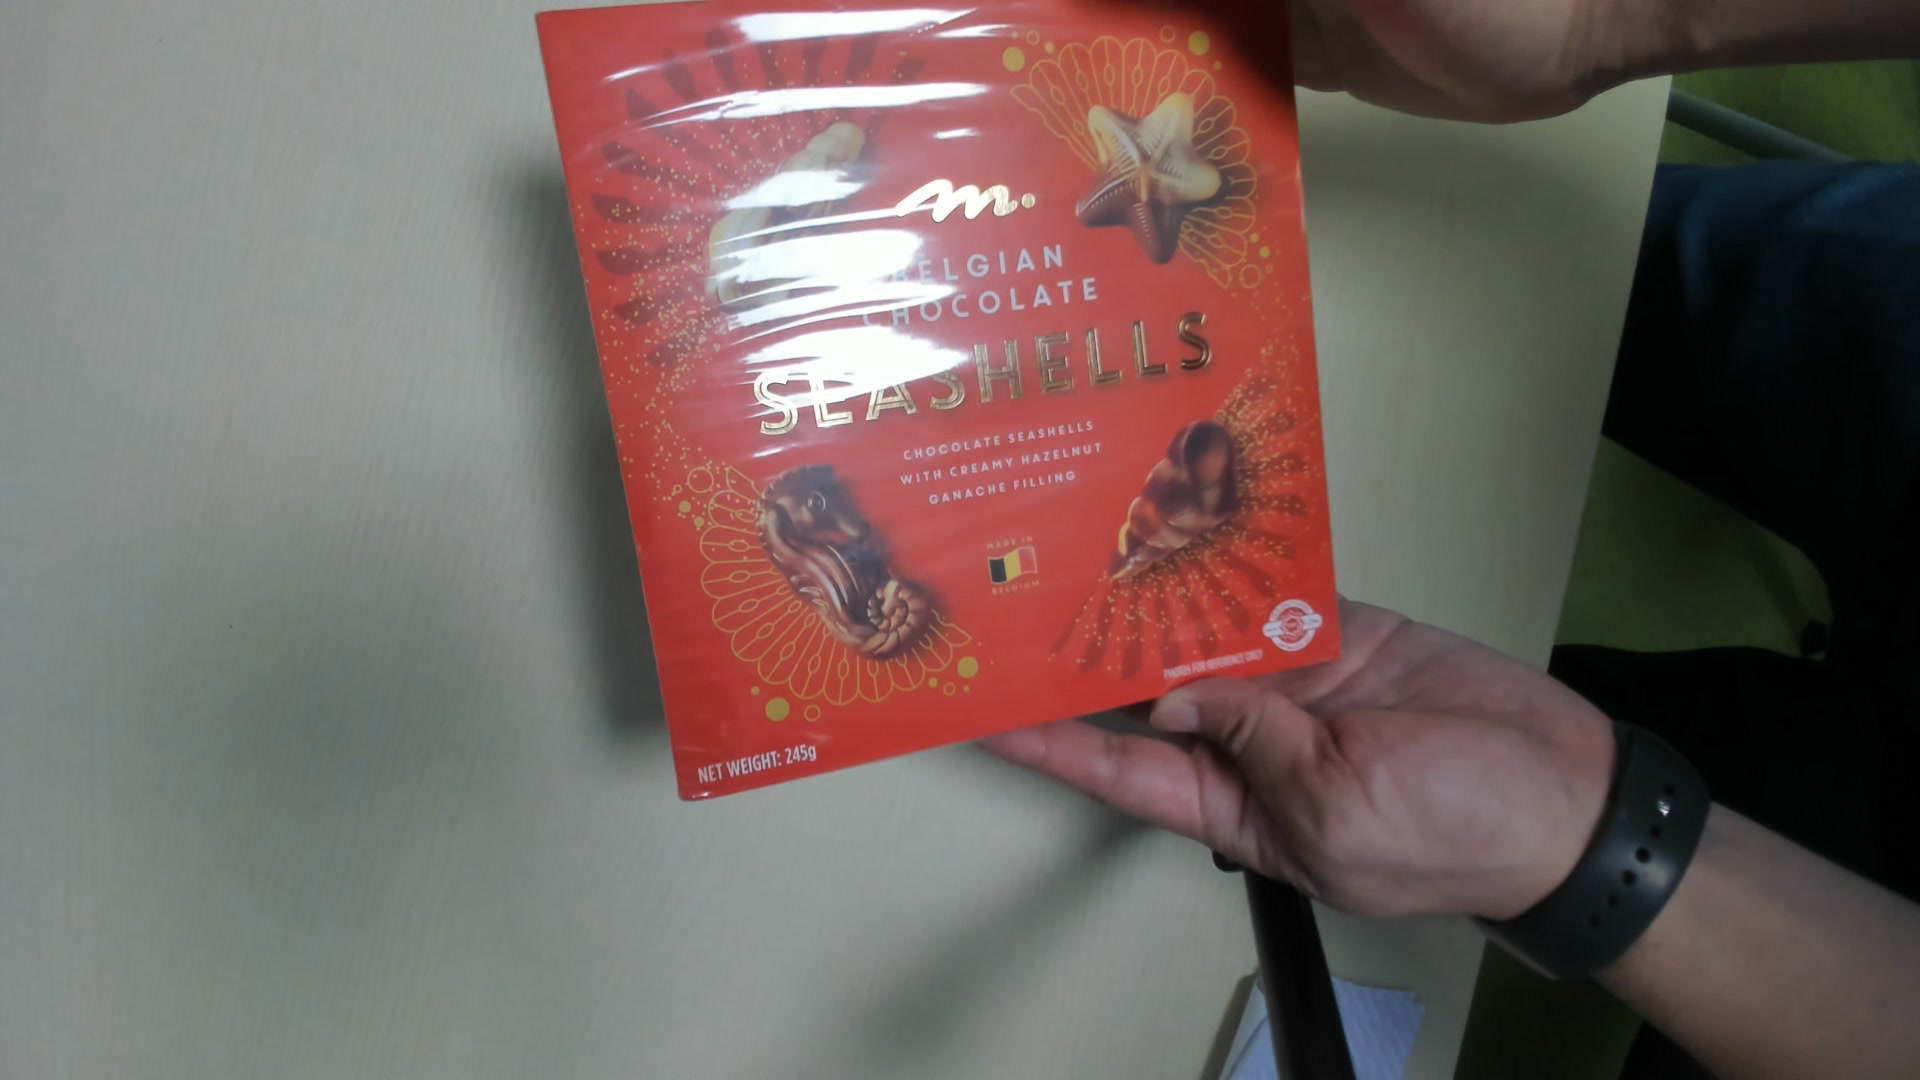SweetsChocolatesOthers_200-299g_Halal_Nonhealthy: (529, 3, 1357, 800)
